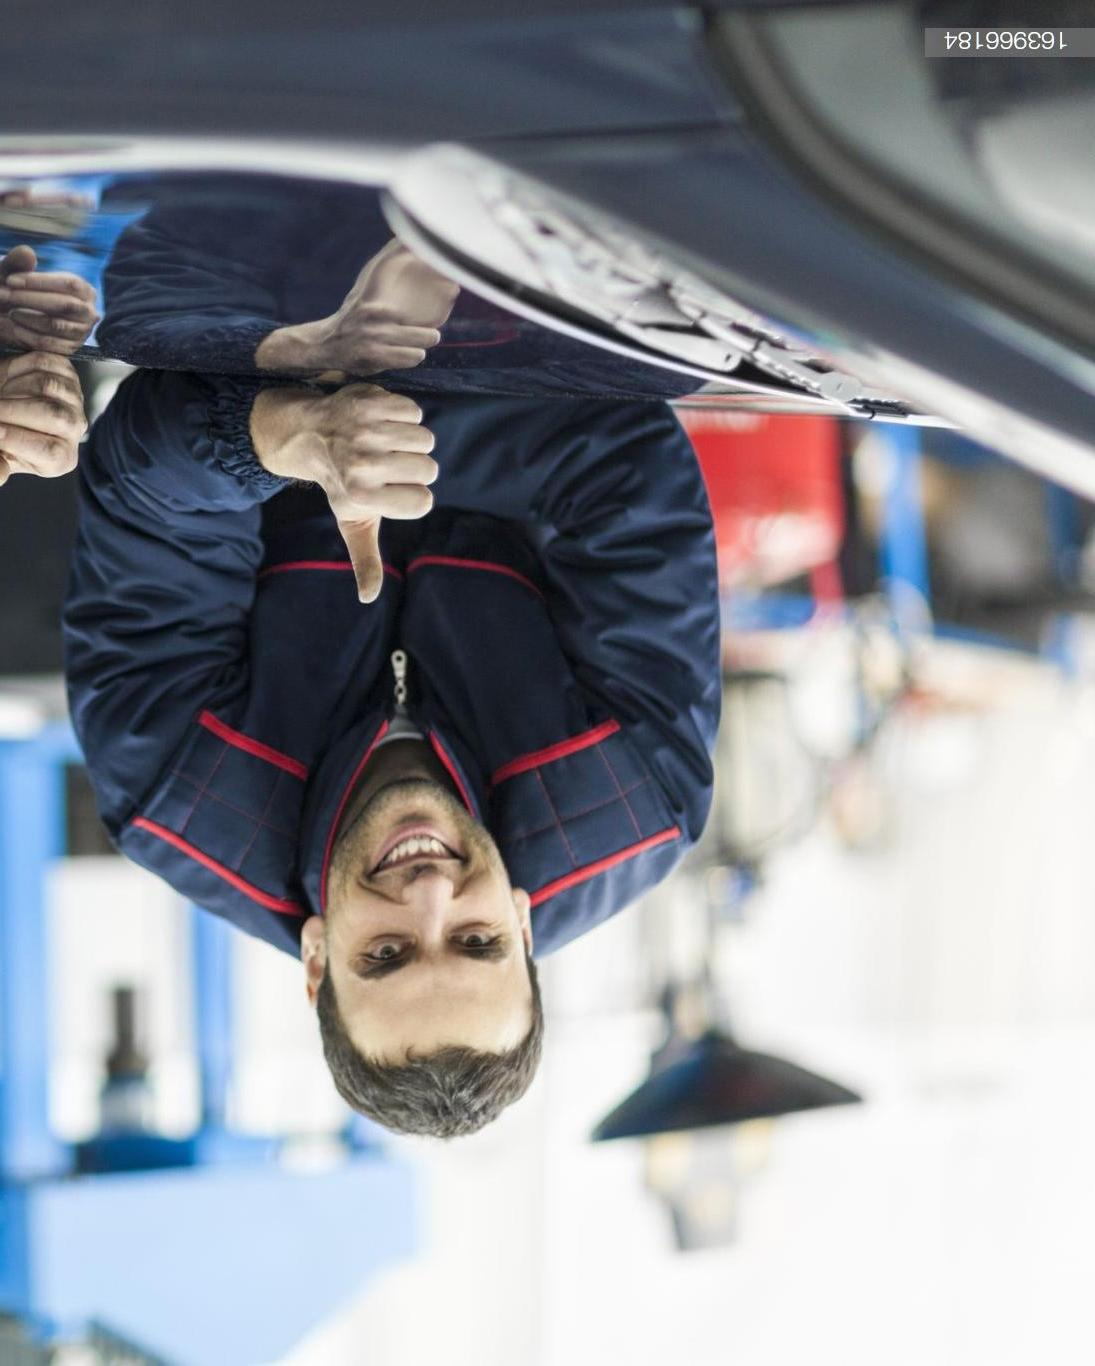thumbsdown: (335, 392, 440, 605)
